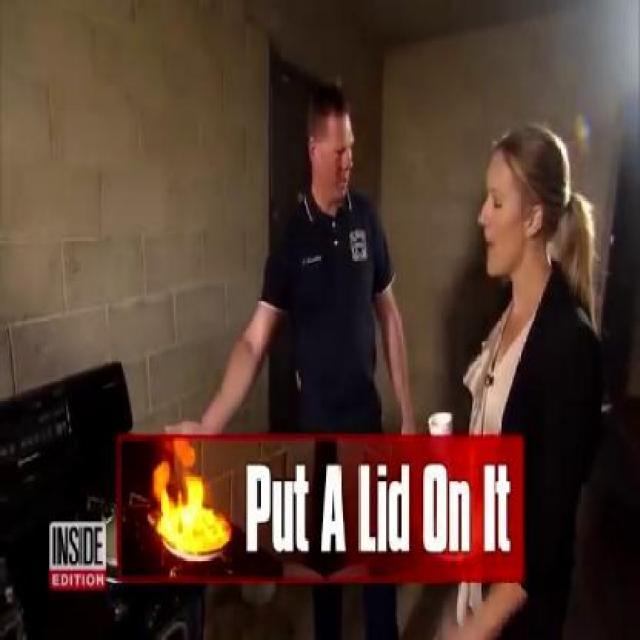fire: (150, 462, 232, 552)
